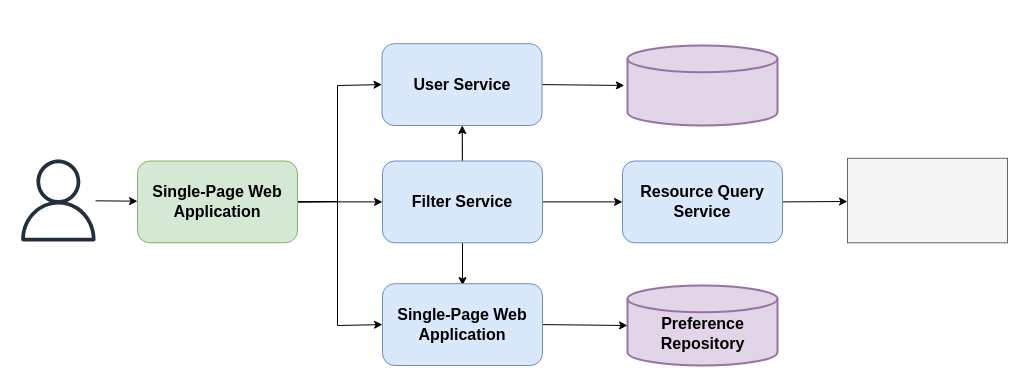
Some shapes in this 1025 by 392 pixel diagram are drawn without their labels. The shapes that lost their labels are listed below. From the top down, each one's centre as x and y in pixels, then its label:
At pixel 702 85: "User Repository".
At pixel 58 200: "User".
At pixel 927 200: "DBpedia SPARQL Endpoint".
